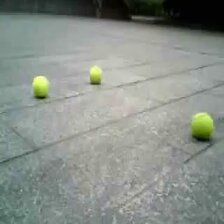tennis: (191, 114, 212, 139), (32, 76, 49, 95), (89, 66, 103, 84)
